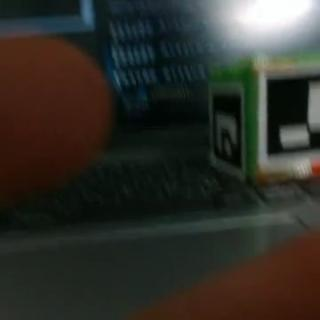armor: (258, 67, 320, 171), (210, 78, 245, 179)
robot: (204, 54, 320, 183)
